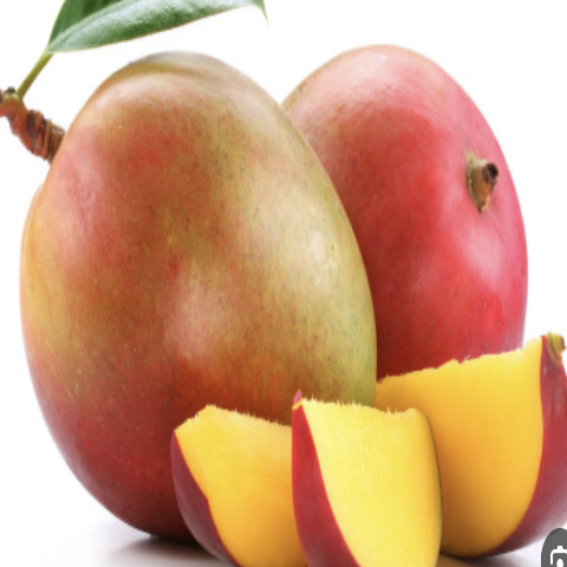mango: (0, 48, 398, 547)
